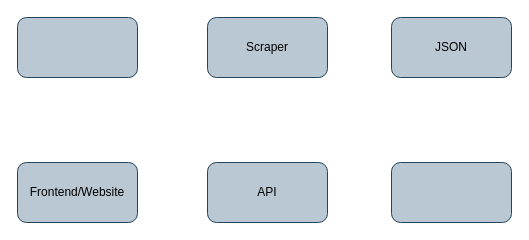
Image size: 529x240. Some labels were removed from this diagram. The centre of each missing label's shape, as x and y in pixels:
"Backend/Logic" belongs at point (451, 192).
"IILM" belongs at point (77, 47).
